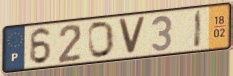2: (57, 22, 85, 65)
3: (150, 13, 174, 53)
6: (29, 26, 53, 66)
I: (193, 9, 204, 50)
O: (86, 20, 116, 60)
V: (116, 16, 148, 56)
